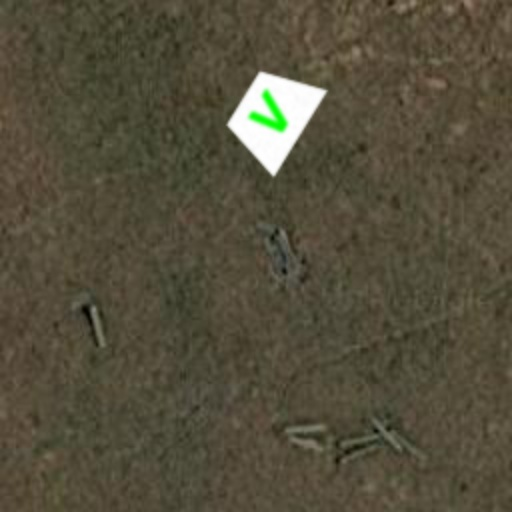trapezoid: (200, 44, 344, 188)
